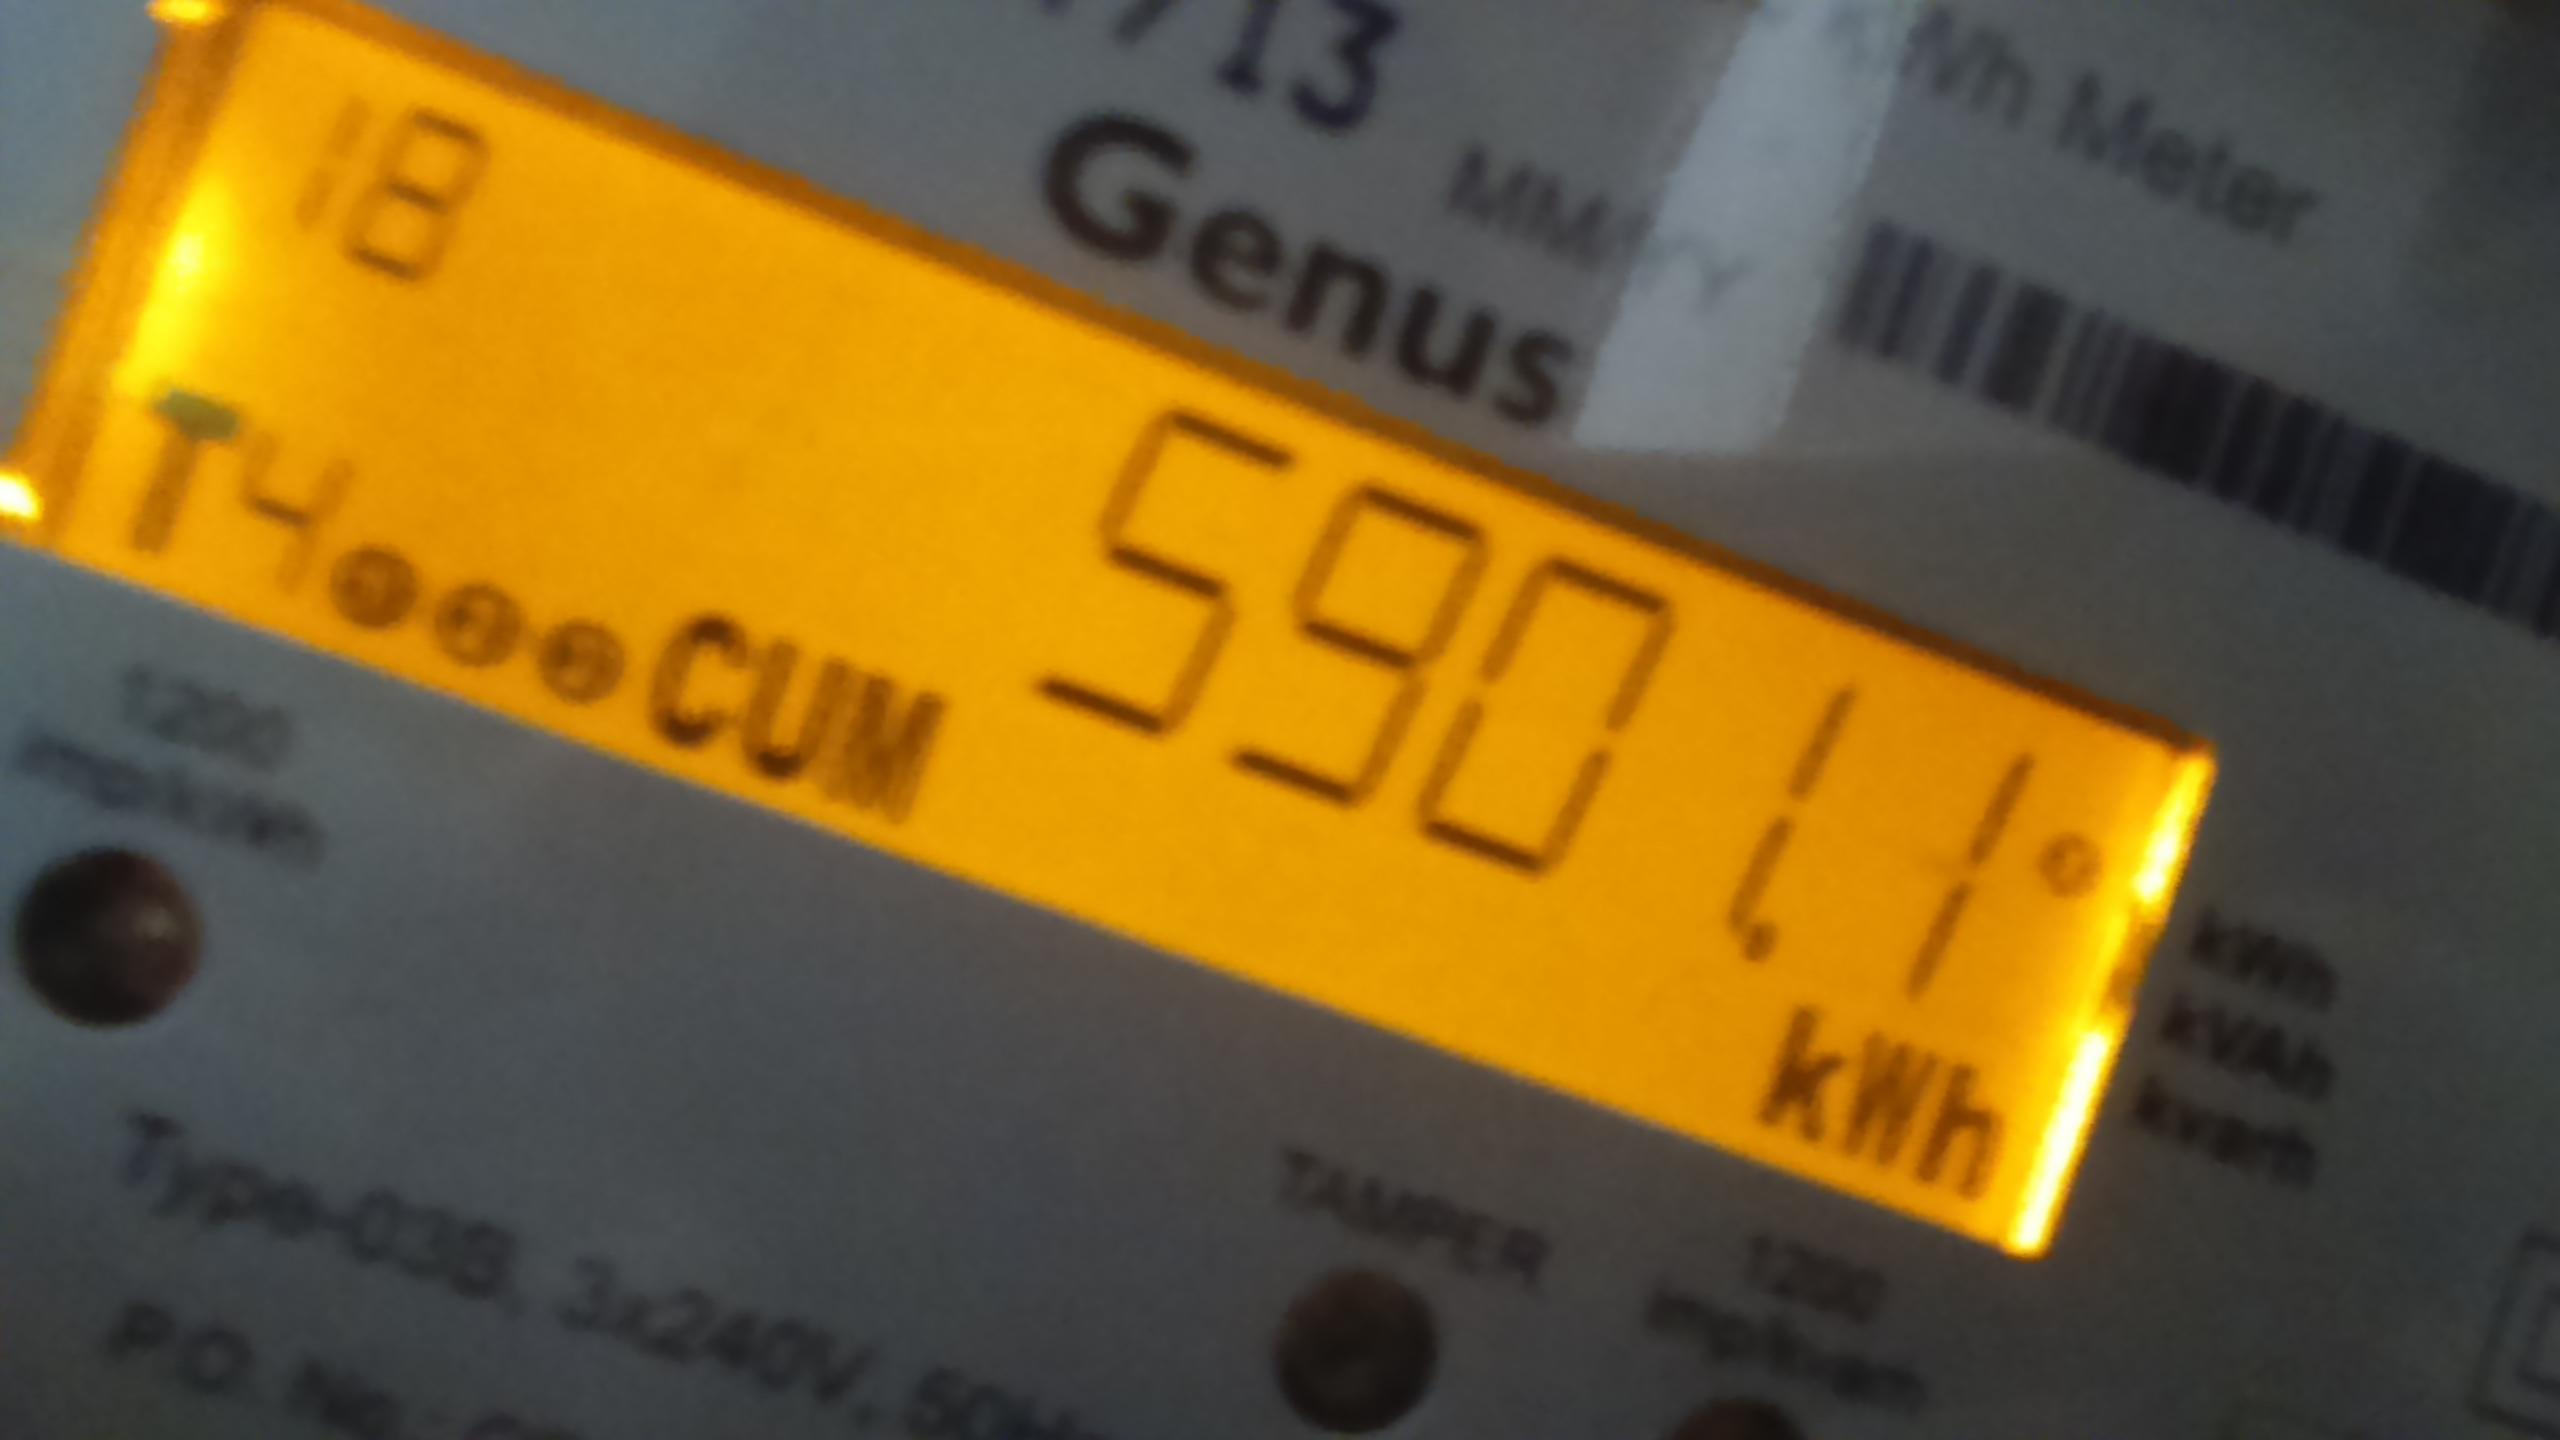.: (1764, 999, 2008, 1213)
0: (1734, 893, 1781, 976)
1: (1414, 489, 1707, 923)
2: (1871, 698, 2062, 1016), (1704, 673, 1881, 928)
6: (1015, 364, 1306, 760)
:: (1201, 454, 1496, 862)
